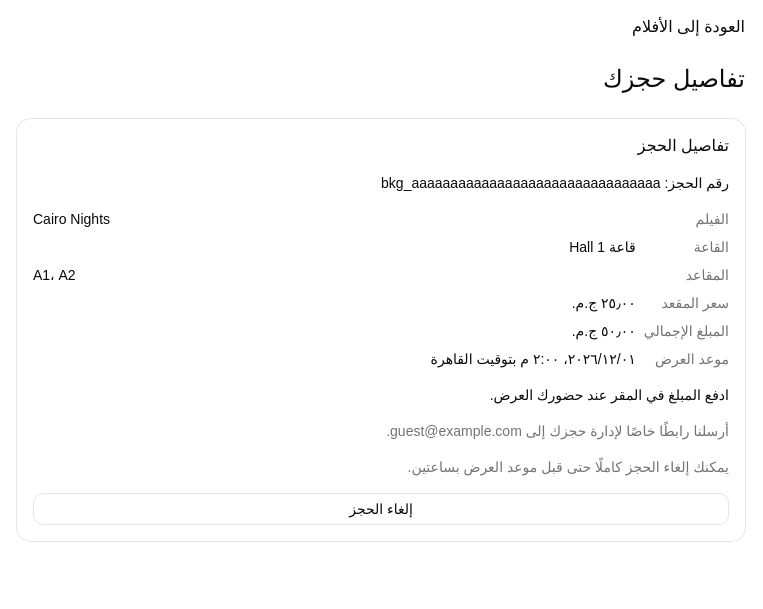
Scenario: GuestBookingPage › requires explicit confirmation before calling the cancellation write
Later steps or results of the test are not shown.
Click the button "إلغاء الحجز" at point(381, 509), box [33, 493, 729, 525]
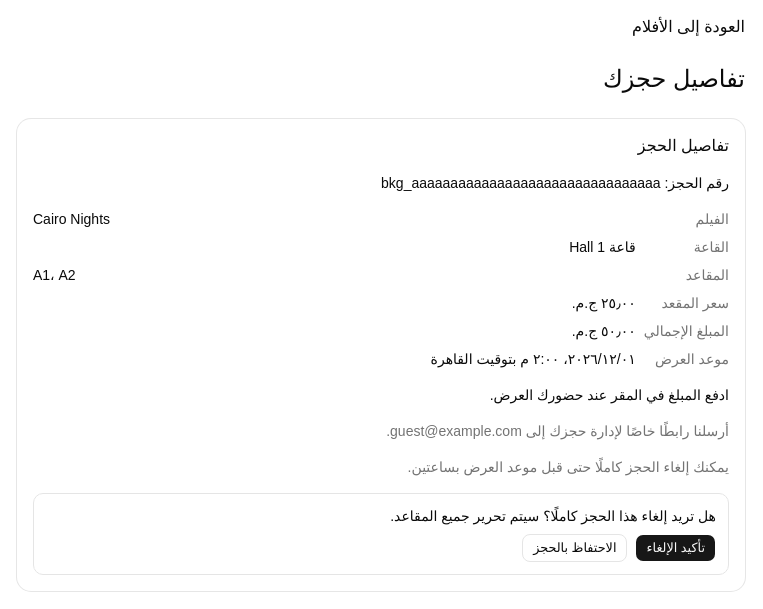
Now the text "هل تريد إلغاء هذا الحجز كاملًا؟ سيتم تحرير جميع المقاعد." is shown, box [390, 508, 716, 524]
